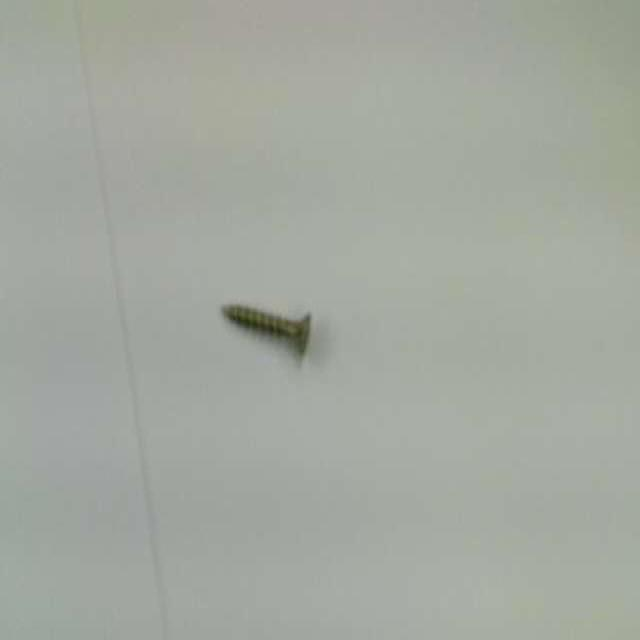Parafuso: (223, 305, 309, 352)
